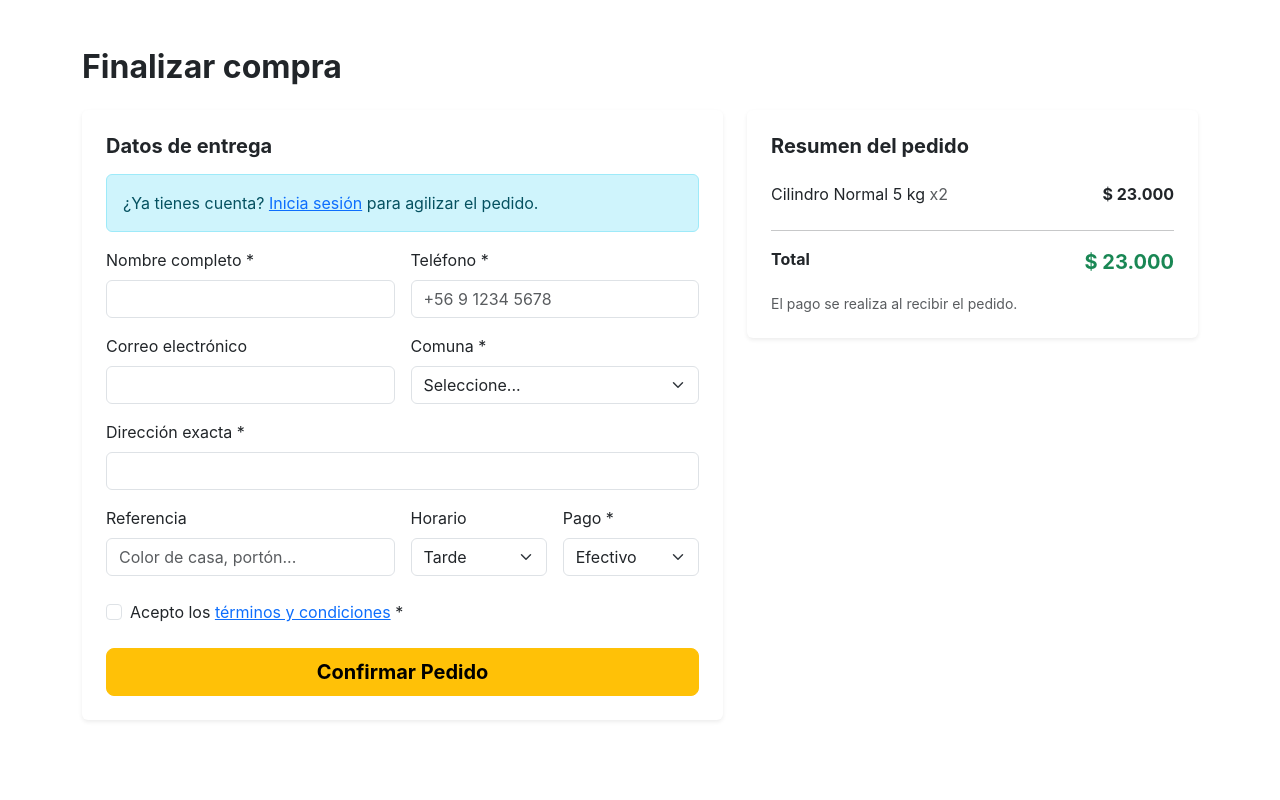
Test: Checkout - validación y eventos › los errores aparecen solo al confirmar un formulario incompleto
expect the text "El nombre es obligatorio" is not shown: met
What coordinates should you click on to do the following:
click the button "Confirmar Pedido"
I would click on:
 (402, 672)
Its box is x1=106 y1=648 x2=699 y2=696.
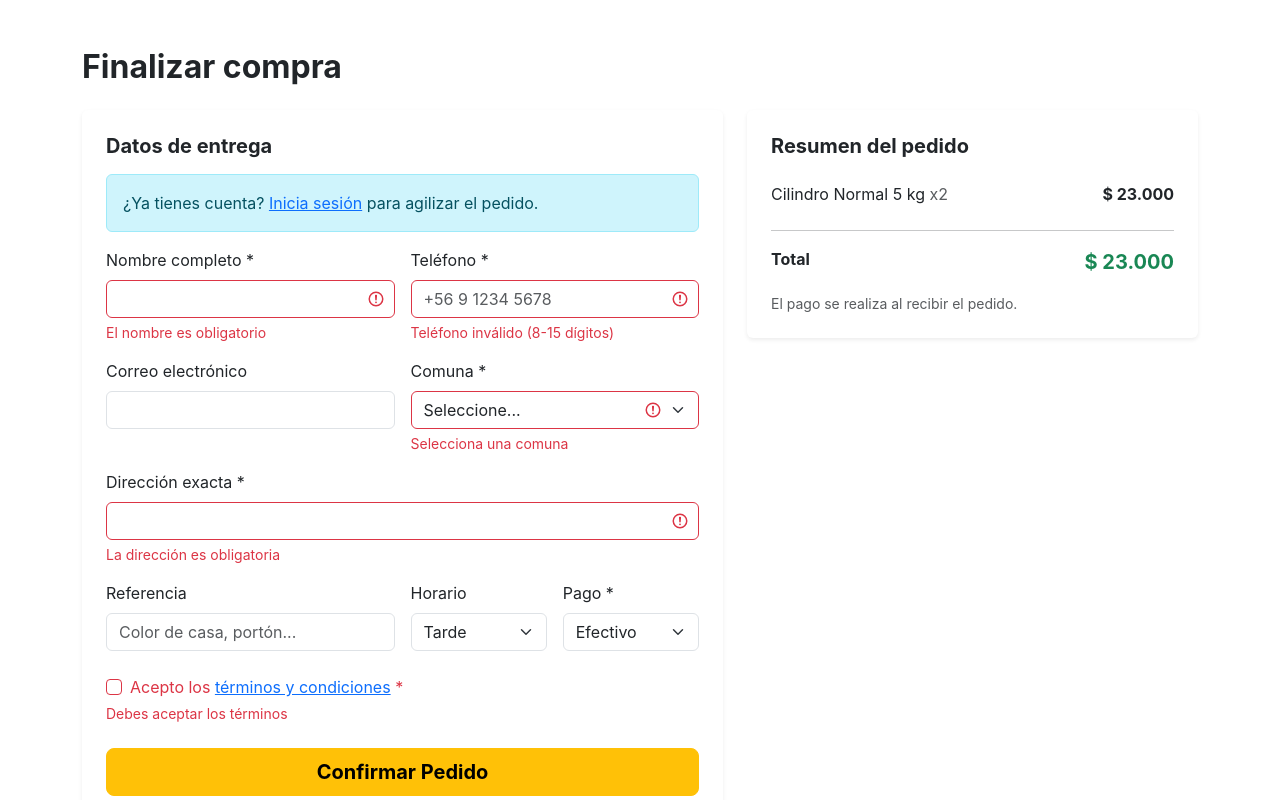
expect the text "El nombre es obligatorio" is shown: met, box x1=106 y1=324 x2=266 y2=341
expect the text "Debes aceptar los términos" is shown: met, box x1=106 y1=705 x2=288 y2=722
